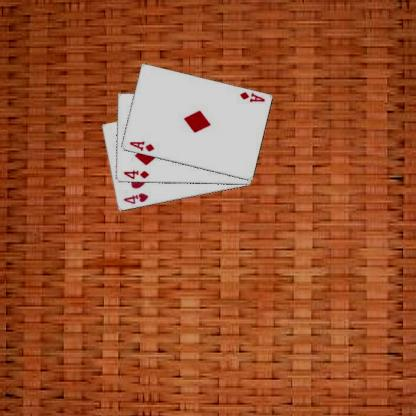4D: (121, 168, 150, 180)
4H: (121, 190, 149, 206)
AD: (127, 138, 156, 153), (238, 89, 266, 104)
